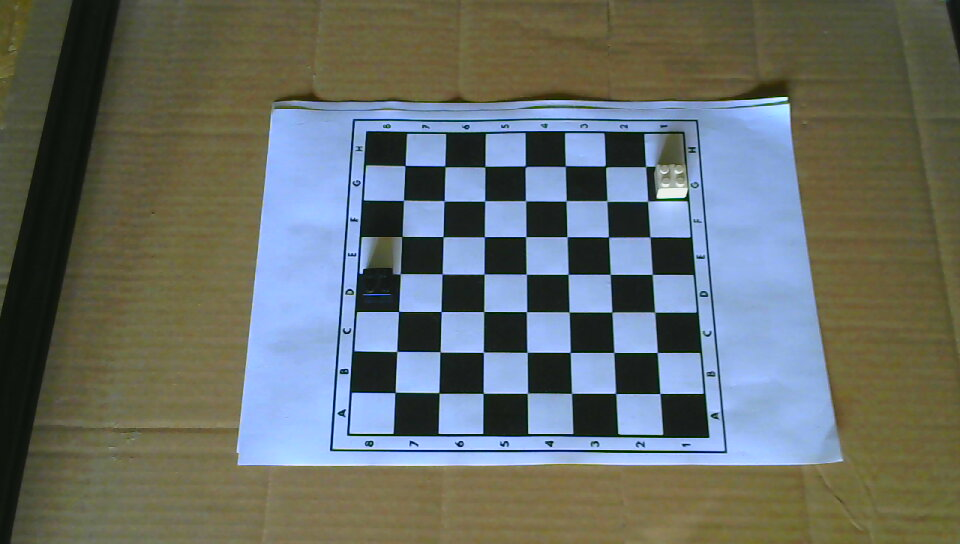bp: (361, 265, 394, 308)
wp: (652, 163, 689, 199)
